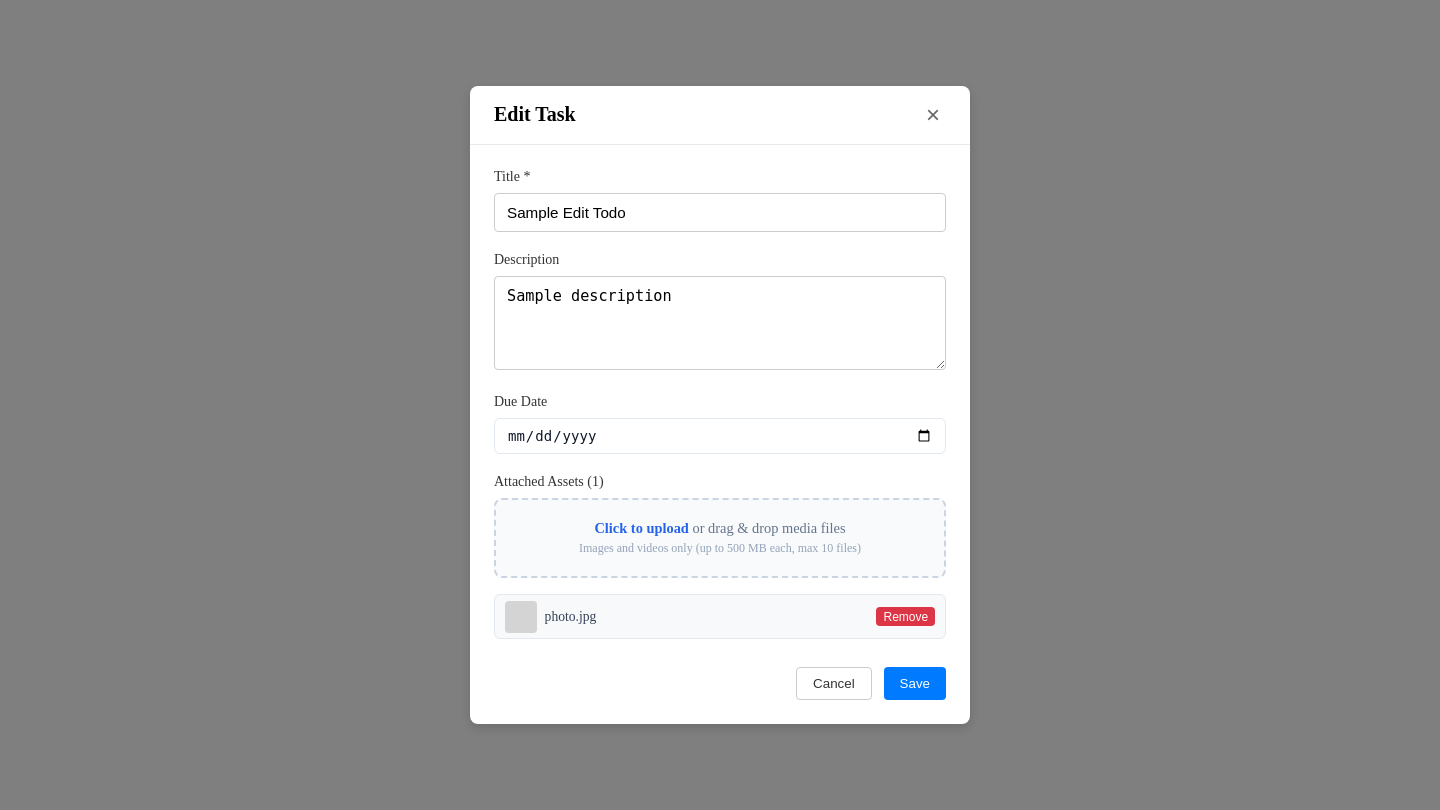
Test: Task Editing and Deletion (T4 / R5 AC-1 to AC-4) › EditTaskModal component unit tests › displays error alert when PATCH request fails
Click the button "Save" at (915, 684), box [884,667,946,700]
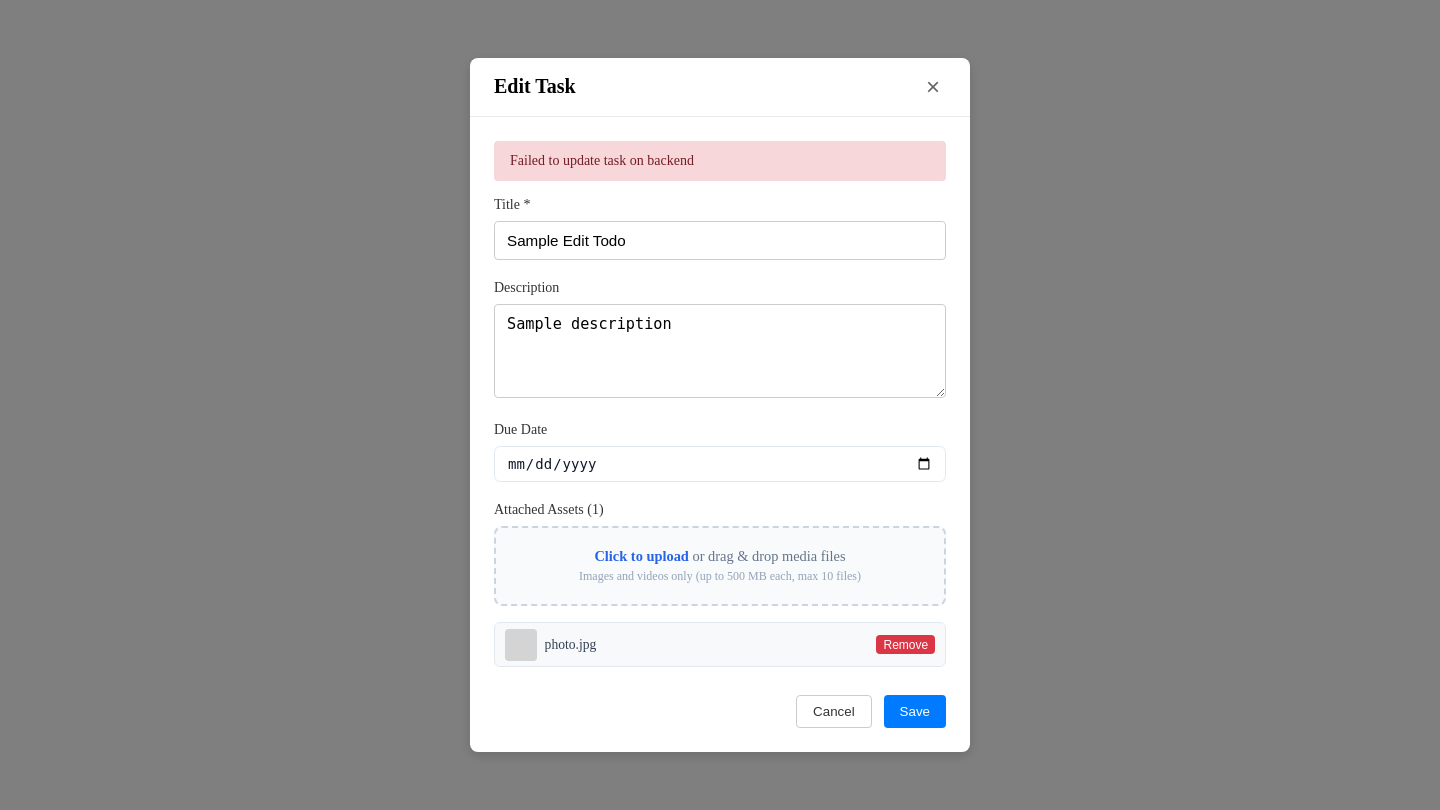
Result: the message reads "Failed to update task on backend" at [510,153,694,168]
